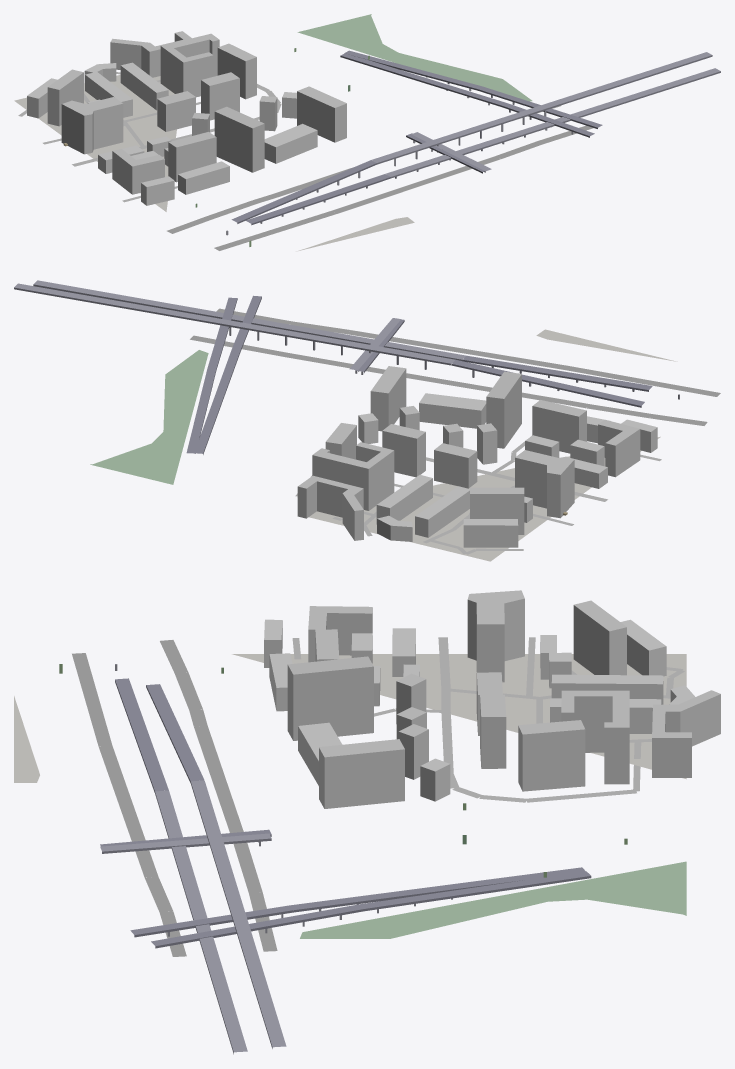
The picture shows the model from 3 angles, top to bottom: view 1: azimuth 30°, elevation 25°; view 2: azimuth 150°, elevation 25°; view 3: azimuth 270°, elevation 25°; orthographic projection. The views are drawn at different scales.
Size of the model in its own units: 748 by 56.77 by 526.
